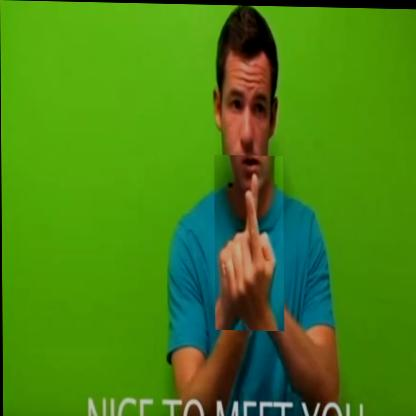NiceToMeetYou: (214, 154, 284, 330)
